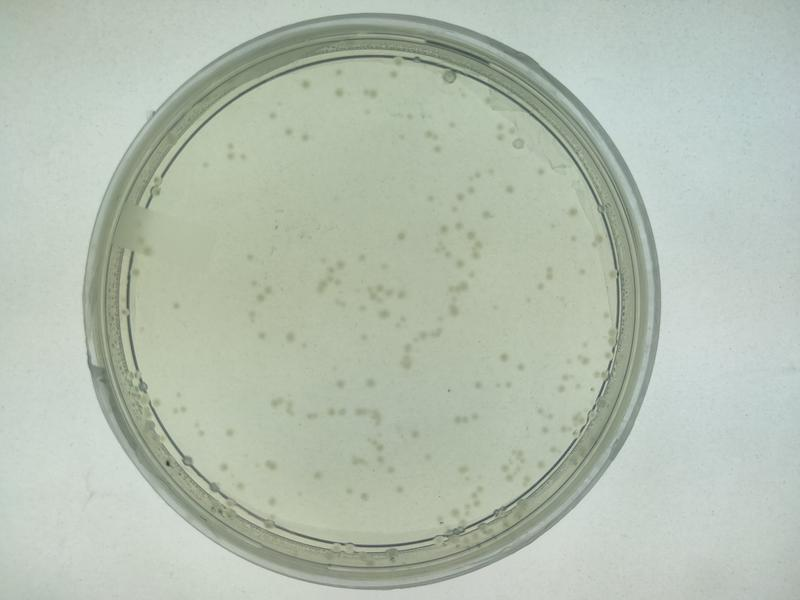colony: (324, 368, 353, 396), (387, 481, 415, 504), (302, 465, 330, 487), (325, 81, 350, 105), (252, 324, 275, 350), (217, 423, 246, 443), (163, 296, 190, 317), (298, 124, 319, 150), (427, 140, 451, 161), (360, 373, 381, 395), (294, 74, 315, 95), (493, 345, 513, 367), (404, 427, 426, 447), (391, 226, 411, 247), (501, 179, 521, 200), (278, 327, 297, 346)
